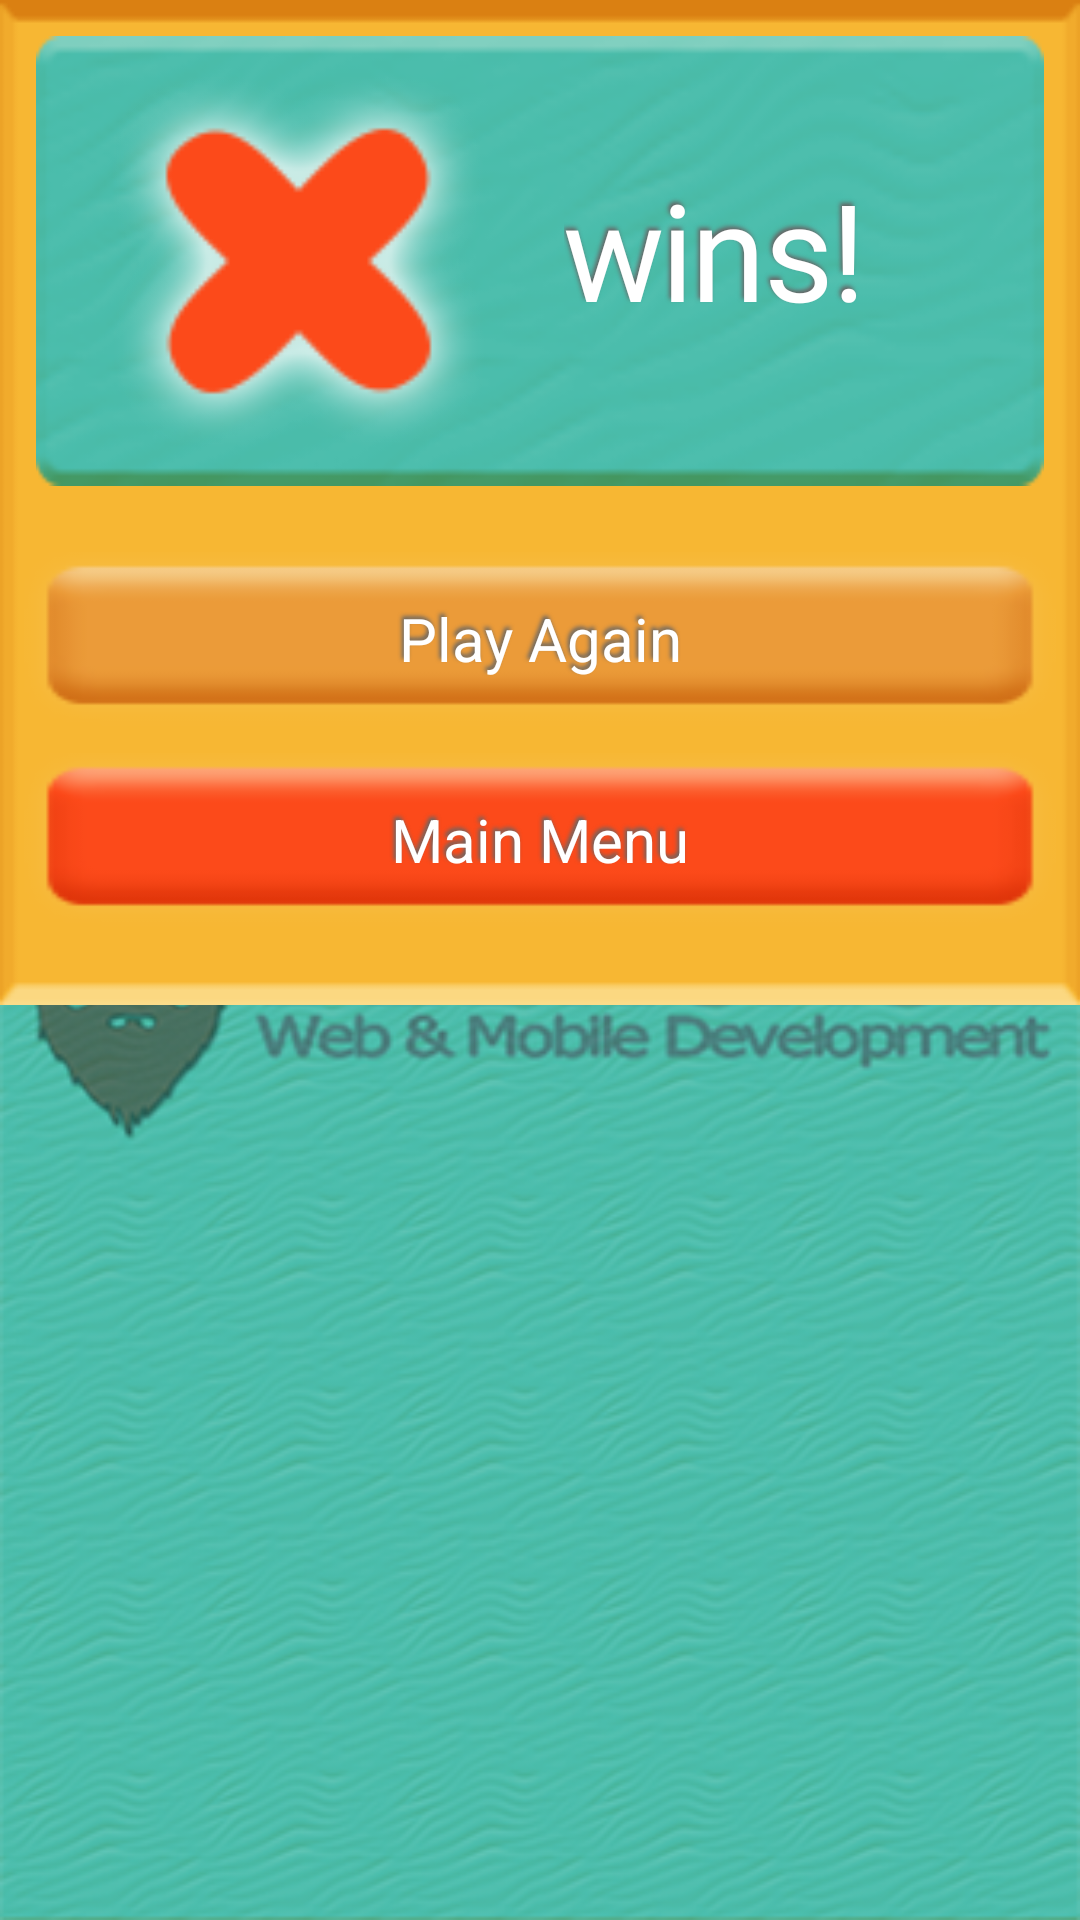

Screen size 1080x1920. Icon name, then its box in pixels as (left=x1, top=y1, right=x2, bottom=y2):
xturn: (left=135, top=101, right=460, bottom=421)
